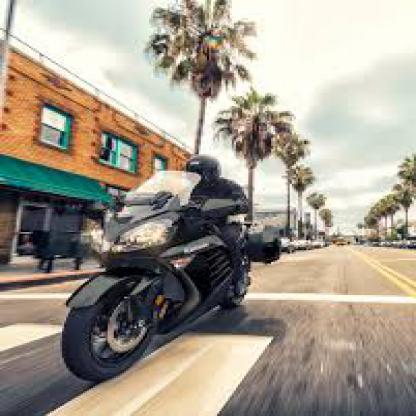Motorcycle: (52, 187, 292, 379)
